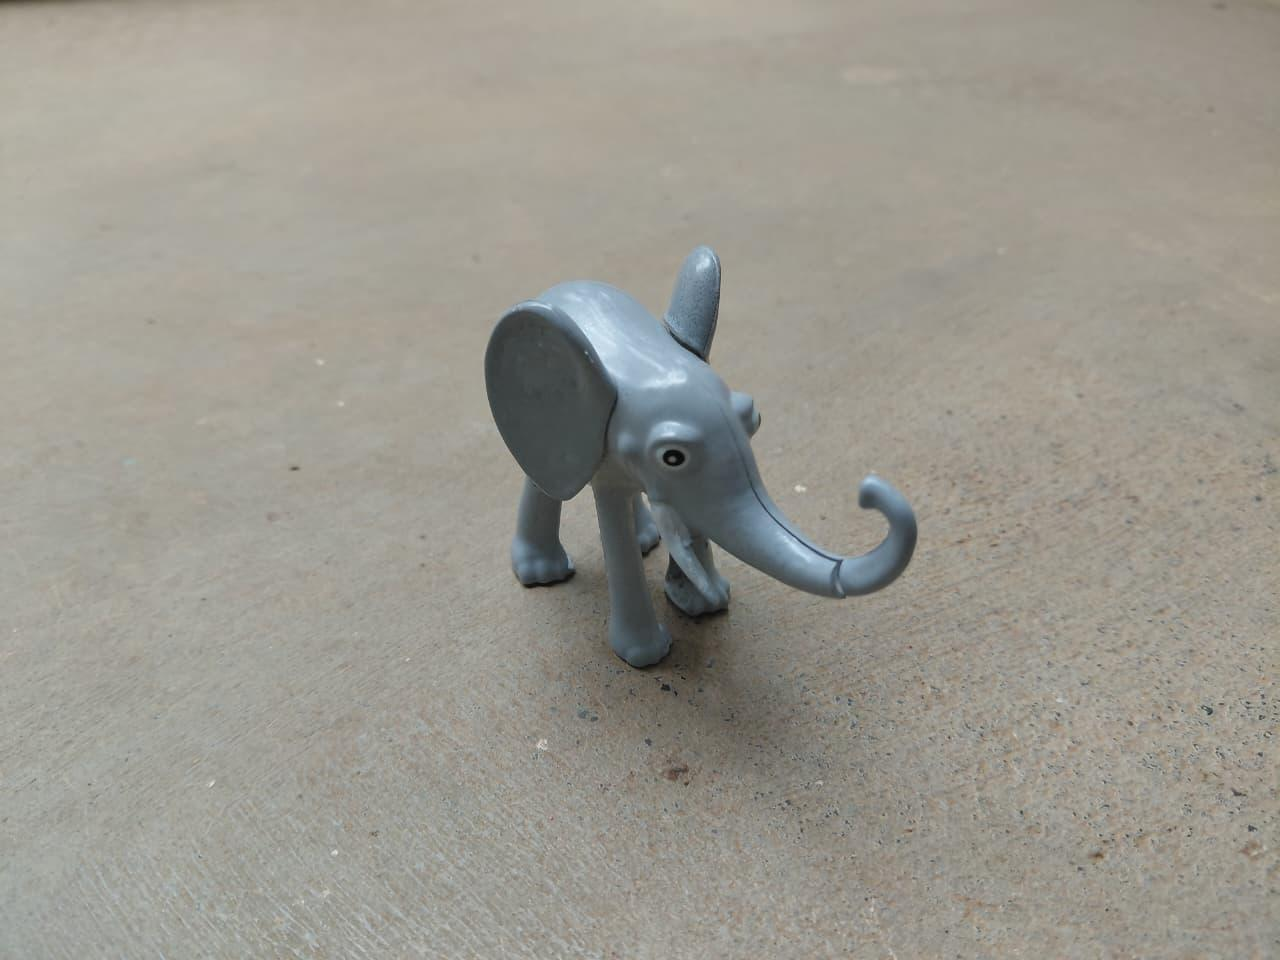elephant: (456, 234, 923, 686)
